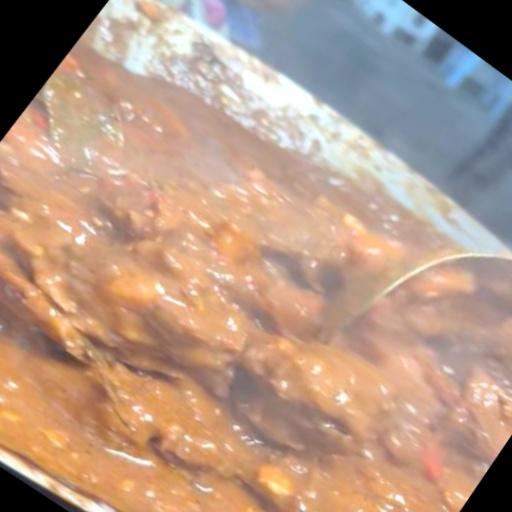pork caldereta: (0, 52, 495, 511)
